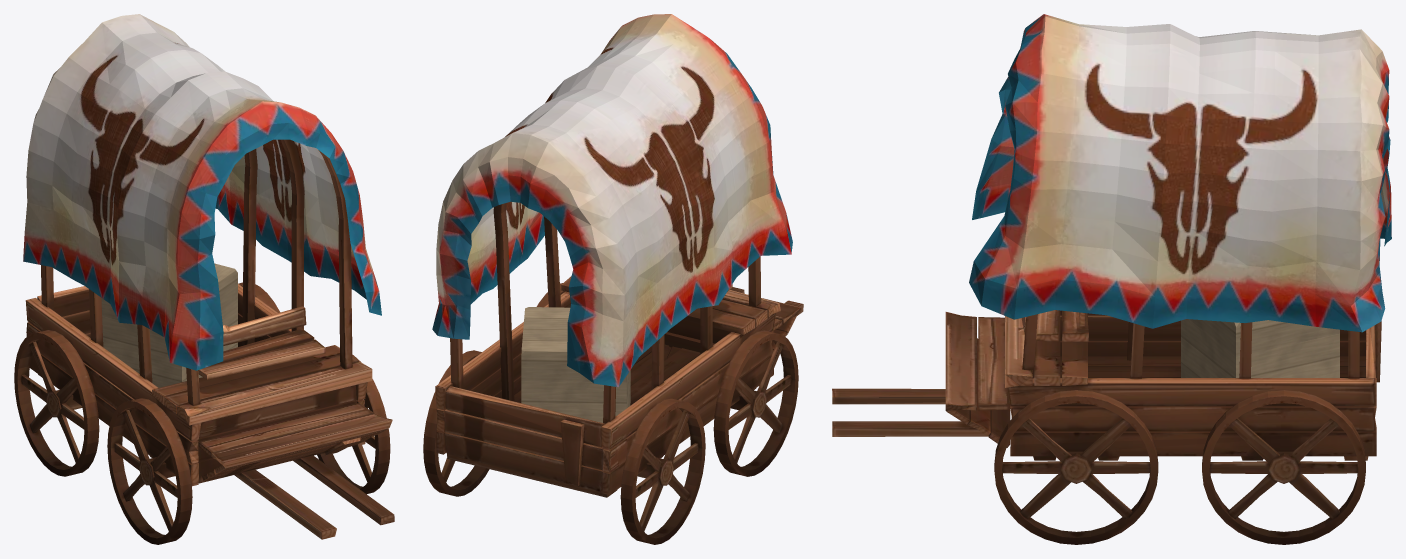
File: fable_t01.glb
The picture shows the model from 3 angles, left to right: view 1: azimuth 30°, elevation 25°; view 2: azimuth 150°, elevation 25°; view 3: azimuth 270°, elevation 25°; orthographic projection. The views are drawn at different scales.
Parts seen in each view (by area): view 1: slot_canvas_top, slot_anchor_frame, slot_front_wheels, crate_body; view 2: slot_canvas_top, slot_anchor_frame, slot_front_wheels, crate_body; view 3: slot_canvas_top, slot_anchor_frame, slot_front_wheels, crate_body.
Boxes of the visible parts, x1,y1,x2,y2 form: slot_canvas_top: (23, 14, 381, 370); slot_anchor_frame: (14, 139, 394, 539); slot_front_wheels: (107, 354, 390, 544); crate_body: (101, 263, 237, 387); slot_canvas_top: (432, 14, 792, 387); slot_anchor_frame: (423, 203, 803, 544); slot_front_wheels: (536, 283, 798, 476); crate_body: (521, 307, 630, 422); slot_canvas_top: (969, 14, 1391, 332); slot_anchor_frame: (832, 310, 1381, 544); slot_front_wheels: (994, 390, 1158, 544); crate_body: (1181, 319, 1339, 377).
Bounding box in the file's own units: 0.9702 × 1.86 × 2.
Materials: 2 (2 with a texture image).
